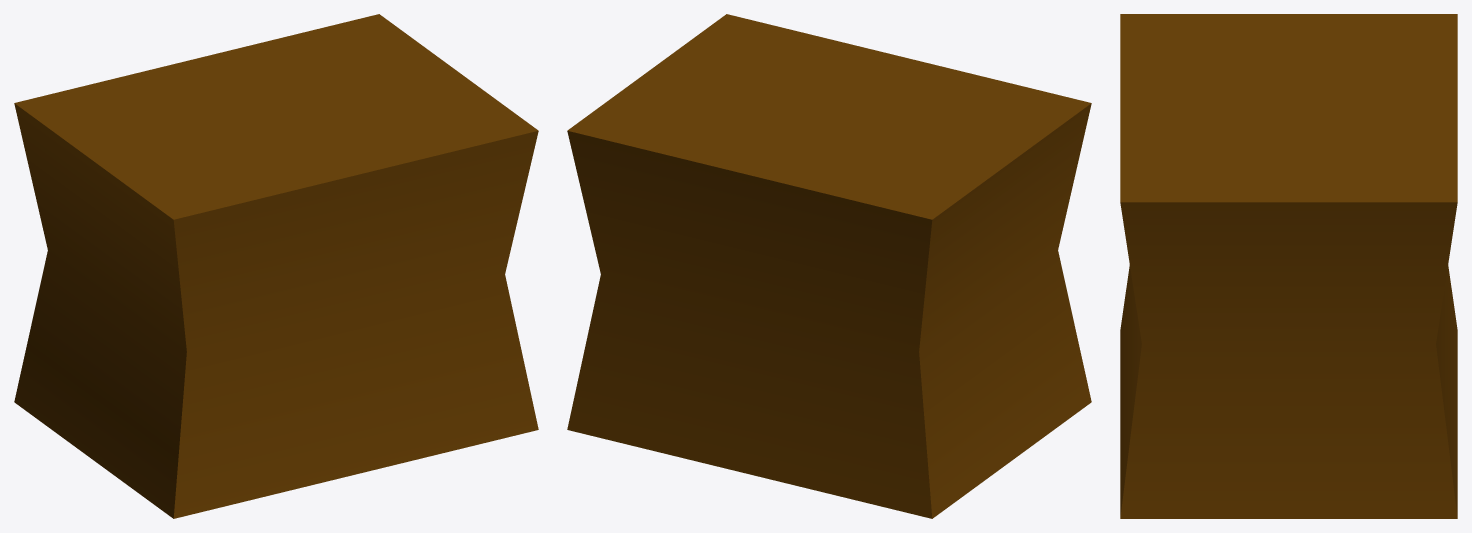
3 renders of one model, left to right at view 1: azimuth 30°, elevation 25°; view 2: azimuth 150°, elevation 25°; view 3: azimuth 270°, elevation 25°, orthographic. The views are drawn at different scales.
Visible parts, largest first — view 1: 4; view 2: 4; view 3: 4.
Boxes of the visible parts, left/top/right/bottom form: 4: left=14, top=14, right=538, bottom=518; 4: left=567, top=14, right=1091, bottom=518; 4: left=1120, top=14, right=1457, bottom=518.
Size of the model in its own units: 27.46 by 21.5 by 20.77.
